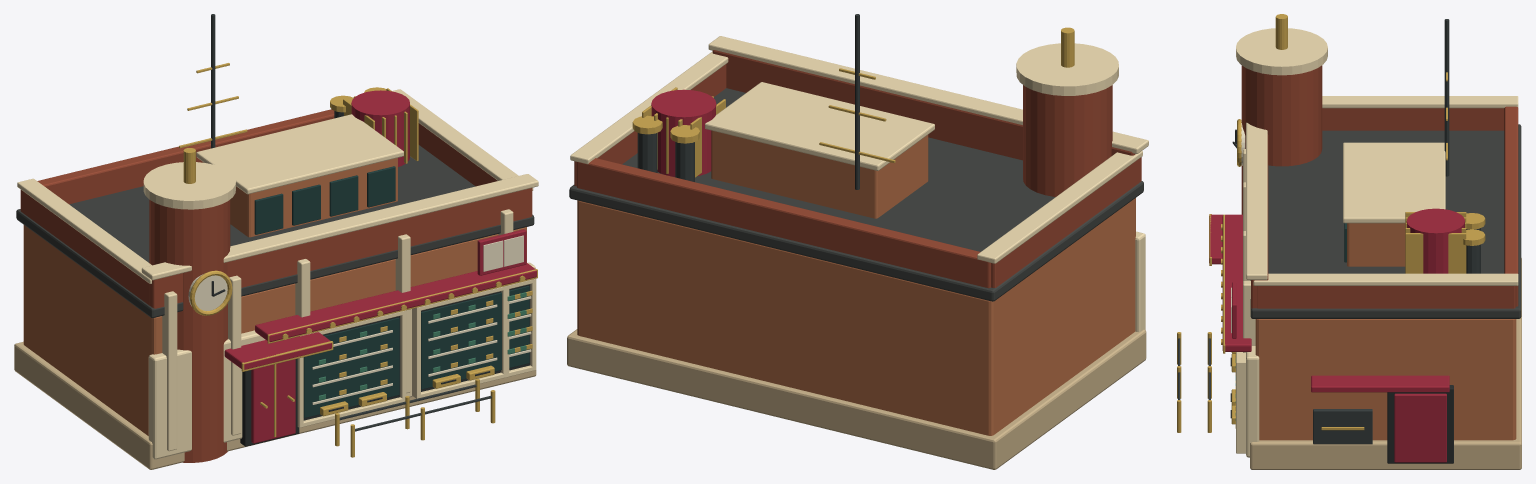
File: bookmaker.cf7da54c2037.glb
The picture shows the model from 3 angles, left to right: view 1: azimuth 30°, elevation 25°; view 2: azimuth 150°, elevation 25°; view 3: azimuth 270°, elevation 25°; orthographic projection. The views are drawn at different scales.
Parts seen in each view (by area): view 1: Betting hall shell, Rounded clock pylon, Roof slab, Front parapet, Clerestory cap, Stone plinth, Central odds display smoked glass, Front cap, Continuous burgundy ribbon, East odds display smoked glass, Rear parapet, Front limestone screen (+29 smaller); view 2: Betting hall shell, Roof slab, Stone plinth, Rear parapet, Roof clerestory, Clerestory cap, Front parapet, Rounded clock pylon, Front cap, Pylon limestone crown, Side parapet.001, Side cap.001 (+7 smaller); view 3: Betting hall shell, Roof slab, Clerestory cap, Stone plinth, Rounded clock pylon, Side parapet, Side parapet.001, Employee door, Pylon limestone crown, Front cap, Side cap, Rear parapet (+16 smaller).
Part boxes in pixels (box(x1,y1,x2,y2)): Betting hall shell: box(23, 225, 526, 435); Rounded clock pylon: box(149, 199, 230, 462); Roof slab: box(16, 145, 534, 318); Front parapet: box(150, 188, 532, 308); Clerestory cap: box(196, 114, 403, 194); Stone plinth: box(14, 341, 536, 469); Central odds display smoked glass: box(303, 317, 399, 418); Front cap: box(141, 174, 538, 280); Continuous burgundy ribbon: box(255, 263, 536, 341); East odds display smoked glass: box(421, 292, 501, 389); Rear parapet: box(37, 109, 334, 204); Front limestone screen: box(148, 262, 535, 459); Betting hall shell: box(577, 198, 1135, 435); Roof slab: box(569, 88, 1143, 301); Stone plinth: box(567, 329, 1146, 469); Rear parapet: box(577, 158, 990, 288); Roof clerestory: box(711, 130, 928, 218); Clerestory cap: box(705, 82, 934, 170); Front parapet: box(712, 50, 1141, 182); Rounded clock pylon: box(1023, 85, 1112, 196); Front cap: box(708, 36, 1148, 153); Pylon limestone crown: box(1016, 43, 1118, 95); Side parapet.001: box(991, 159, 1138, 287); Side cap.001: box(977, 151, 1142, 263); Betting hall shell: box(1255, 319, 1516, 440); Roof slab: box(1250, 124, 1521, 318); Clerestory cap: box(1343, 142, 1445, 223); Stone plinth: box(1250, 258, 1521, 469); Rounded clock pylon: box(1241, 65, 1322, 214); Side parapet: box(1257, 286, 1515, 308); Side parapet.001: box(1322, 108, 1504, 130); Employee door: box(1394, 393, 1446, 462); Pylon limestone crown: box(1236, 28, 1327, 75); Front cap: box(1246, 122, 1267, 279); Side cap: box(1253, 273, 1518, 285); Rear parapet: box(1504, 106, 1518, 306).
Size of the model in its own units: 16.71 by 13.6 by 12.43.
